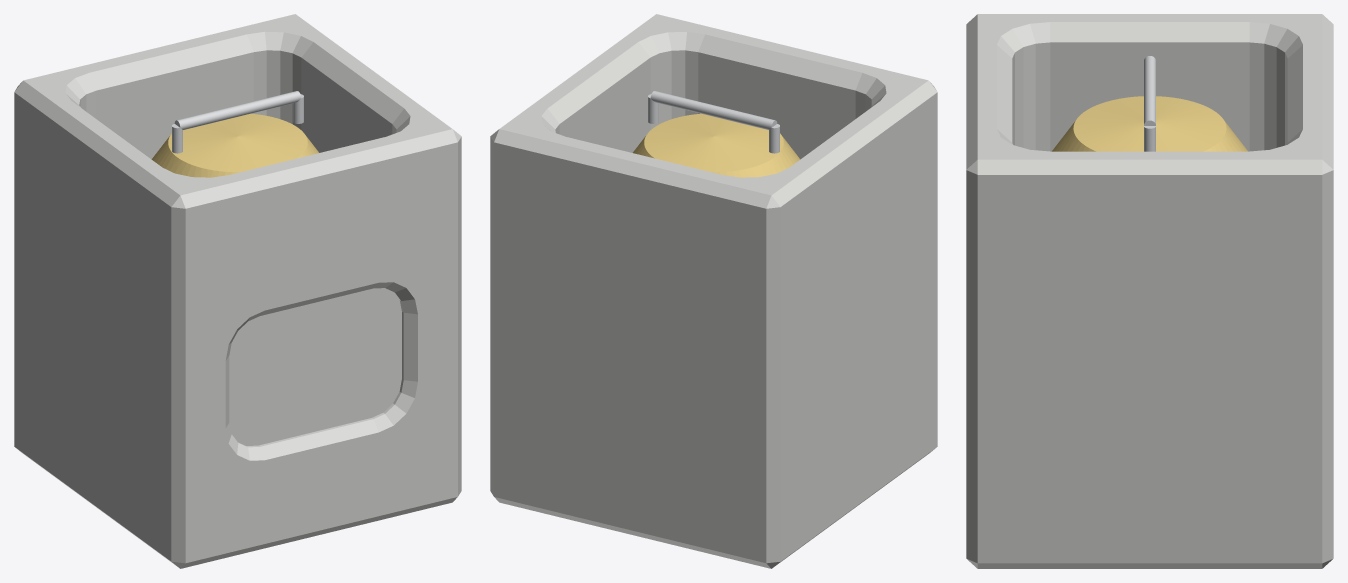
Rendered from ax_util_18_seismometer.glb.
The picture shows the model from 3 angles, left to right: view 1: azimuth 30°, elevation 25°; view 2: azimuth 150°, elevation 25°; view 3: azimuth 270°, elevation 25°; orthographic projection. The views are drawn at different scales.
Parts seen in each view (by area): view 1: housing, seismometer_dome, eva_handle; view 2: housing, seismometer_dome, eva_handle; view 3: housing, seismometer_dome, eva_handle.
Boxes of the visible parts, x1,y1,x2,y2 form: housing: (14,14,461,568); seismometer_dome: (151,113,318,177); eva_handle: (172,91,303,153); housing: (490,14,937,568); seismometer_dome: (633,113,800,177); eva_handle: (648,91,779,153); housing: (966,14,1333,568); seismometer_dome: (1052,96,1247,151); eva_handle: (1144,56,1155,151).
Size of the model in its own units: 0.48 by 0.59 by 0.48.
